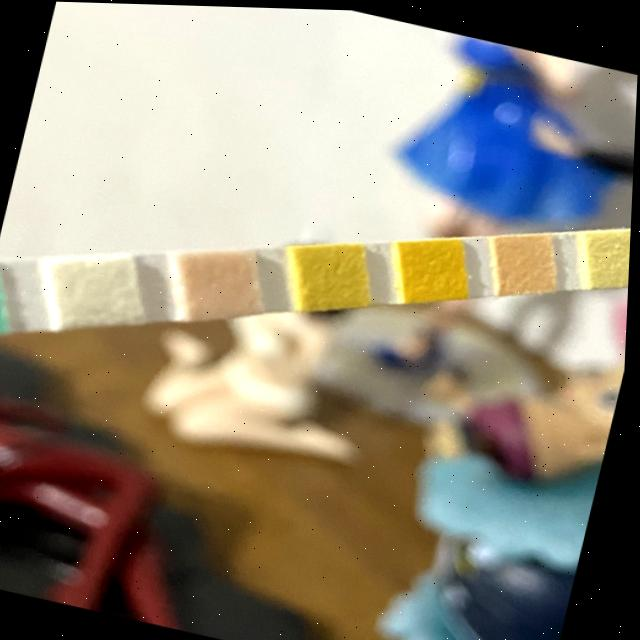Bilirubin: (64, 262, 138, 323)
Blood: (408, 242, 466, 296)
Glucose: (0, 282, 2, 333)
Ketone: (190, 255, 260, 317)
Protein: (593, 230, 632, 280)
SpGravity: (308, 249, 368, 306)
pH: (504, 234, 559, 289)
